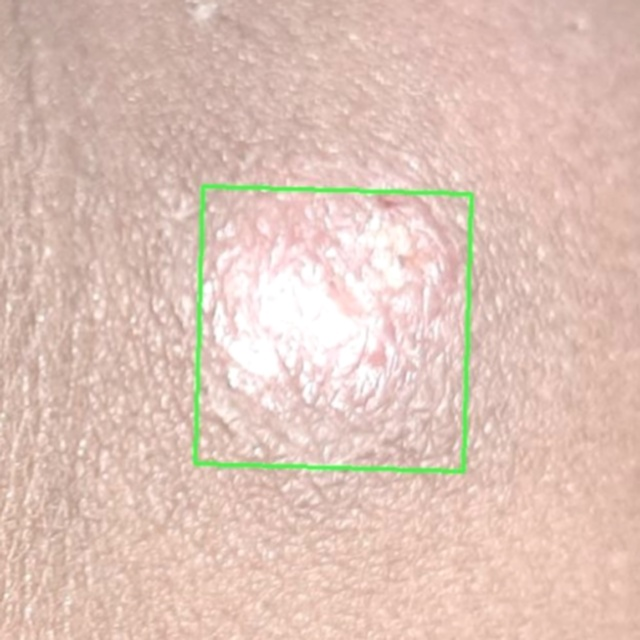Contact Dermatitis: (194, 186, 470, 470)
